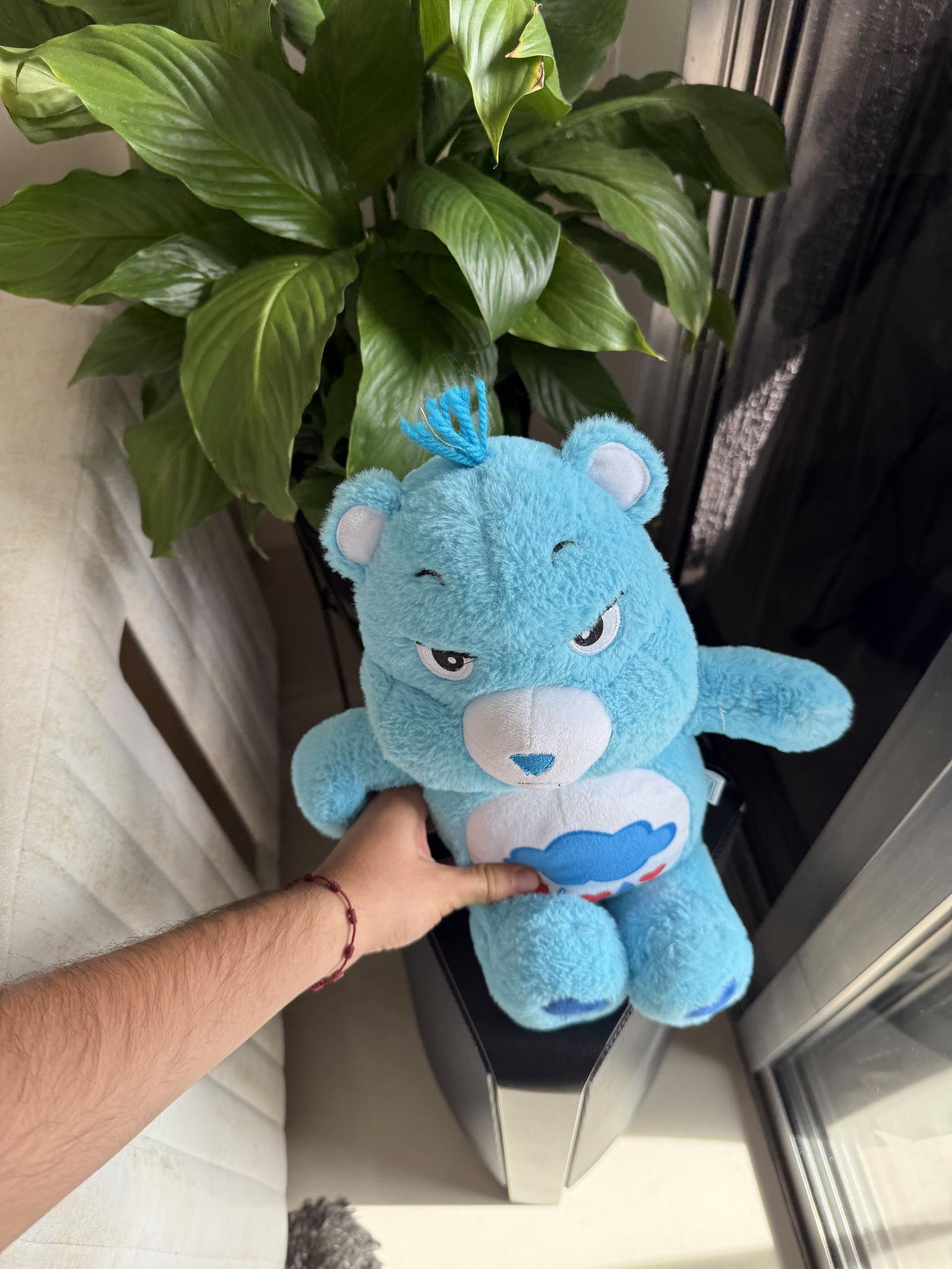peluche_Juan Jose: (288, 381, 856, 1042)
